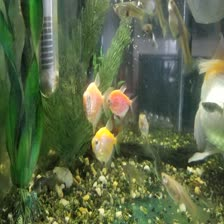Guppy: (165, 0, 196, 65), (109, 2, 148, 20), (135, 107, 150, 142)
Plano: (78, 75, 105, 127), (89, 129, 120, 161), (105, 89, 134, 117)
